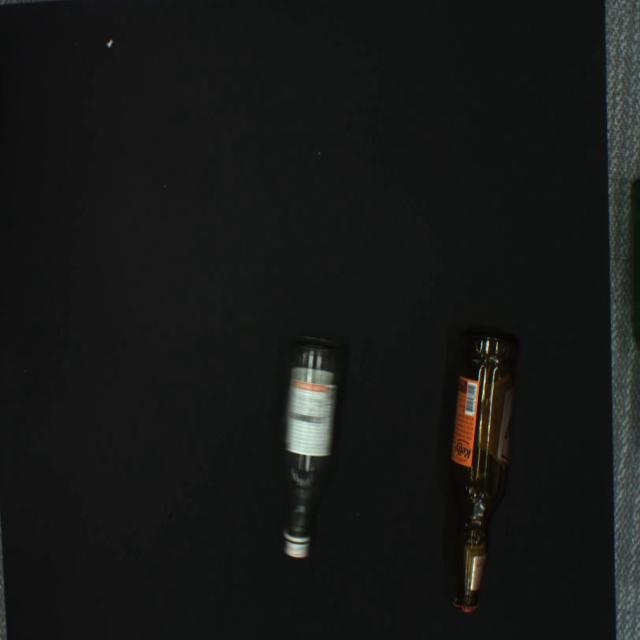beer-bottle: (448, 328, 520, 614)
soju-bottle: (277, 335, 340, 557)
